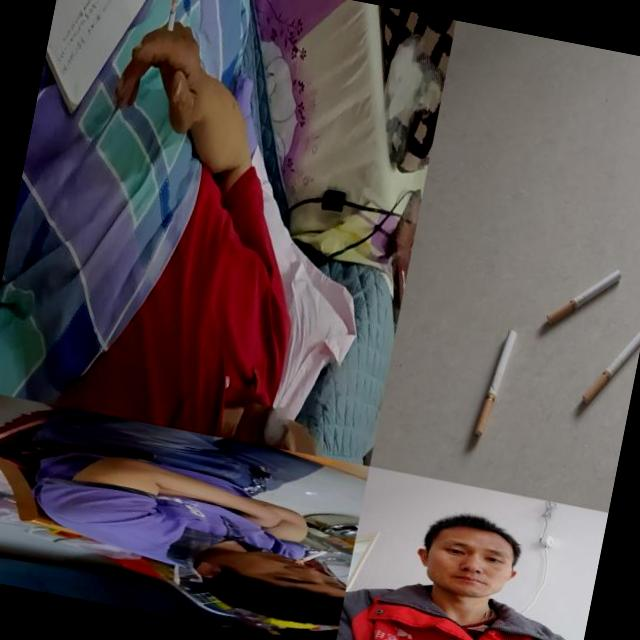cigarette: (545, 258, 623, 338), (581, 316, 640, 413), (472, 326, 518, 440), (162, 0, 183, 47), (294, 546, 329, 569)
